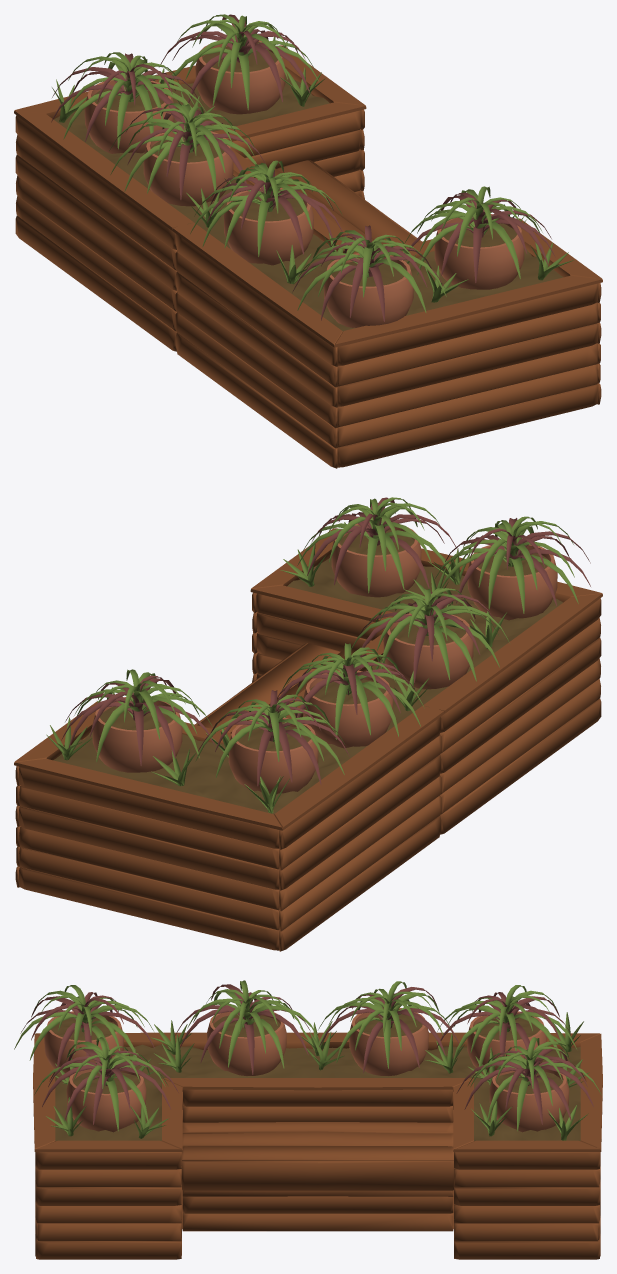
File: flowerbed.glb
3 views of the same model, one above another, from view 1: azimuth 30°, elevation 25°; view 2: azimuth 150°, elevation 25°; view 3: azimuth 270°, elevation 25° (orthographic). The views are drawn at different scales.
Parts seen in each view (by area): view 1: bed_0, green2_3, pot_4, dirt_1, dirt2_2, green_5; view 2: bed_0, green2_3, pot_4, dirt_1, dirt2_2, green_5; view 3: bed_0, green2_3, pot_4, dirt_1, green_5, dirt2_2.
Part boxes in pixels (x1,y1,x2,y2): bed_0: [14, 45, 602, 468]; green2_3: [51, 14, 555, 321]; pot_4: [84, 40, 524, 327]; dirt_1: [54, 75, 563, 331]; dirt2_2: [92, 46, 516, 286]; green_5: [52, 37, 574, 302]; bed_0: [14, 528, 602, 951]; green2_3: [61, 497, 590, 786]; pot_4: [92, 523, 557, 794]; dirt_1: [53, 558, 562, 814]; dirt2_2: [100, 529, 549, 751]; green_5: [46, 522, 506, 813]; bed_0: [33, 1032, 602, 1259]; green2_3: [14, 980, 601, 1131]; pot_4: [44, 1008, 569, 1132]; dirt_1: [55, 1044, 580, 1140]; green_5: [46, 1012, 589, 1140]; dirt2_2: [51, 1014, 562, 1093].
Bounding box in the file's own units: 4.9 × 3.34 × 9.99.
